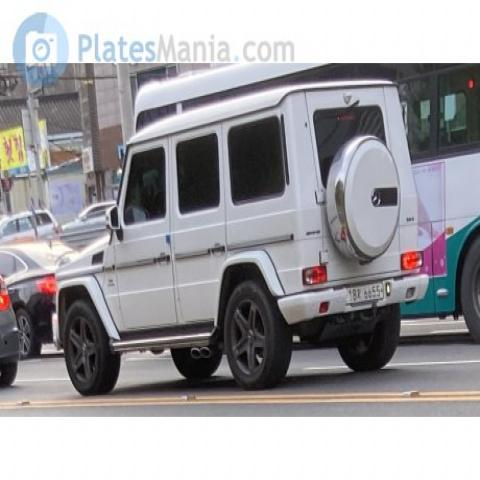LP: (339, 277, 388, 308)
